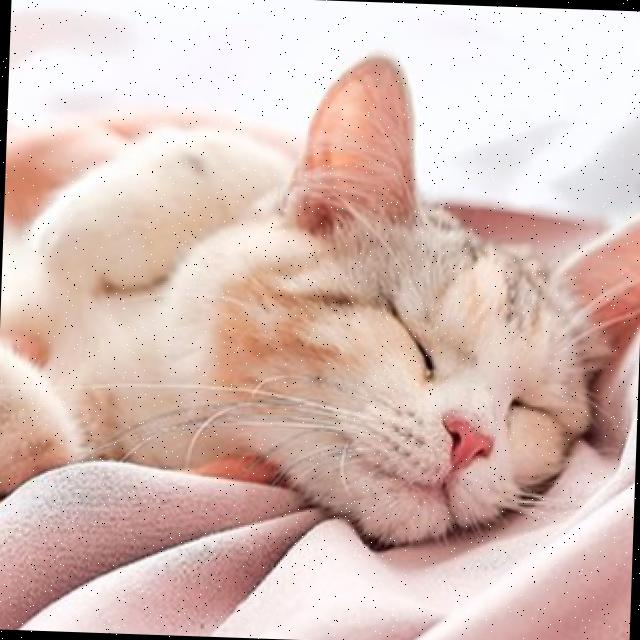Happy: (244, 198, 594, 549)
